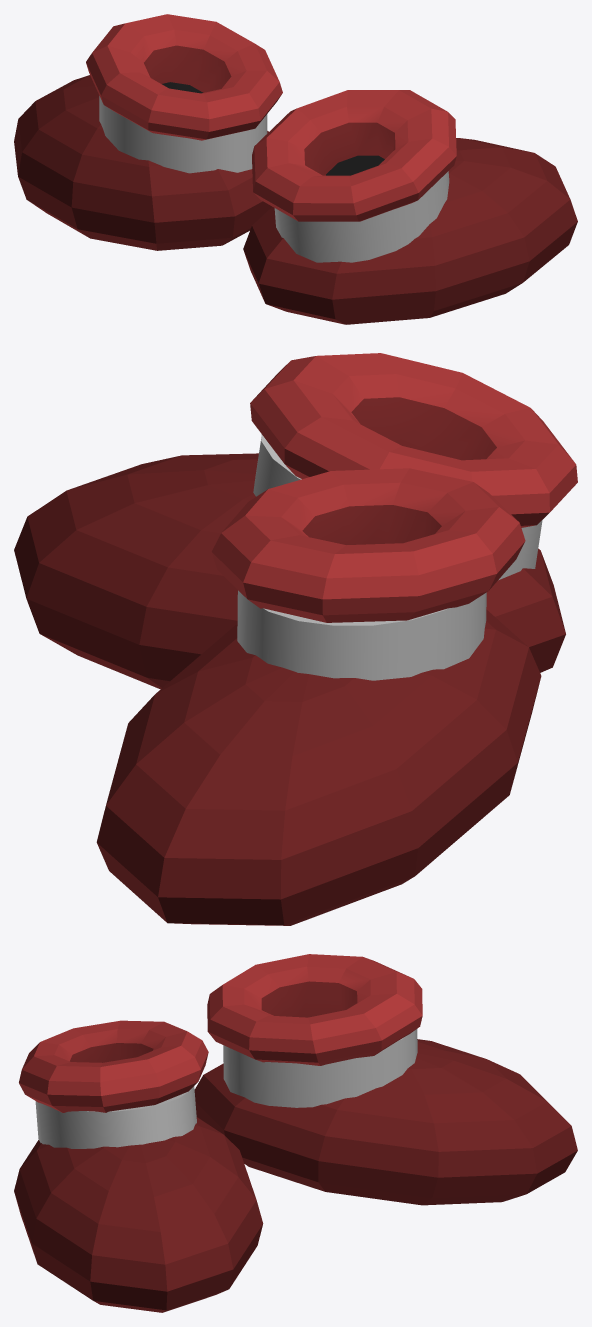
Rendered from Boots02.fbx.
3 views of the same model, one above another, from view 1: azimuth 30°, elevation 25°; view 2: azimuth 150°, elevation 25°; view 3: azimuth 270°, elevation 25° (orthographic). The views are drawn at different scales.
Visible parts, largest first — view 1: SpeedBoots; view 2: SpeedBoots; view 3: SpeedBoots.
Part boxes in pixels (left/top/right/bottom): SpeedBoots: left=14, top=14, right=577, bottom=324; SpeedBoots: left=14, top=353, right=577, bottom=925; SpeedBoots: left=14, top=954, right=577, bottom=1312.
Size of the model in its own units: 0.1797 by 0.0827 by 0.2123.
